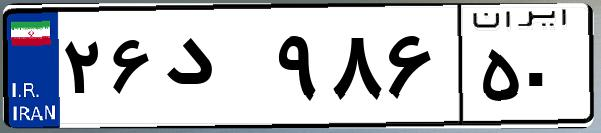0: (525, 38, 570, 115)
2: (57, 26, 110, 100)
5: (475, 38, 525, 113)
6: (385, 28, 445, 110), (110, 28, 158, 98)
8: (330, 28, 385, 110)
9: (270, 28, 330, 110)
د: (158, 20, 270, 120)
